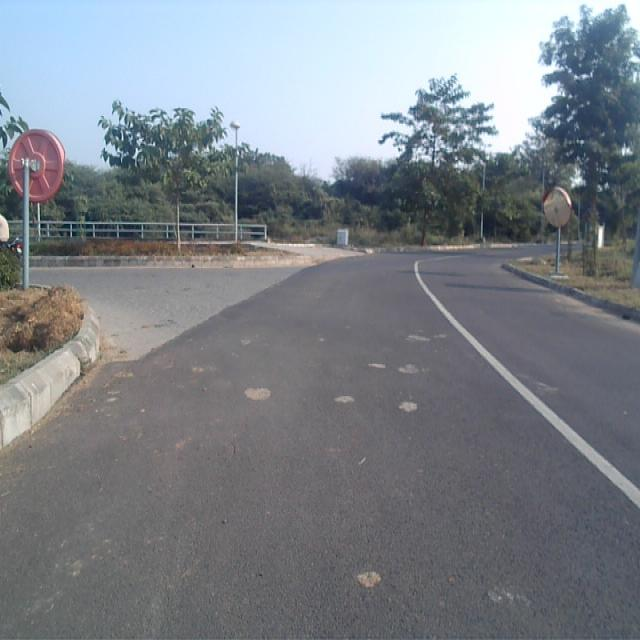lane: (0, 254, 640, 640)
